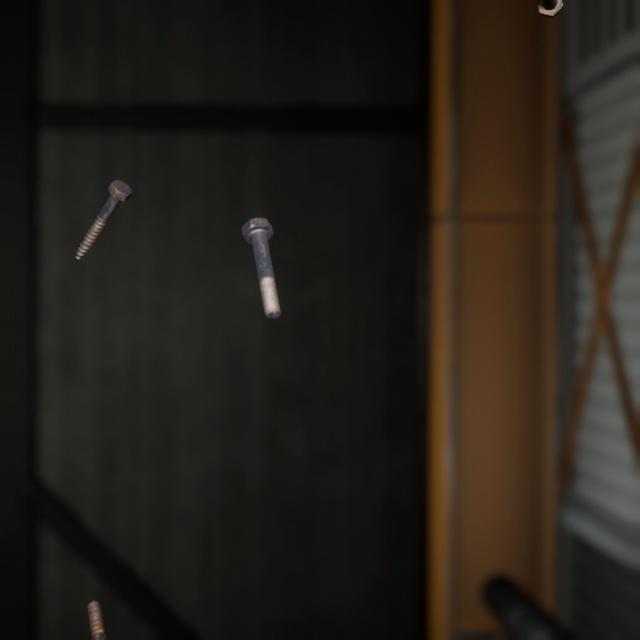bolt: (70, 159, 136, 248), (236, 196, 285, 306), (82, 572, 122, 640)
